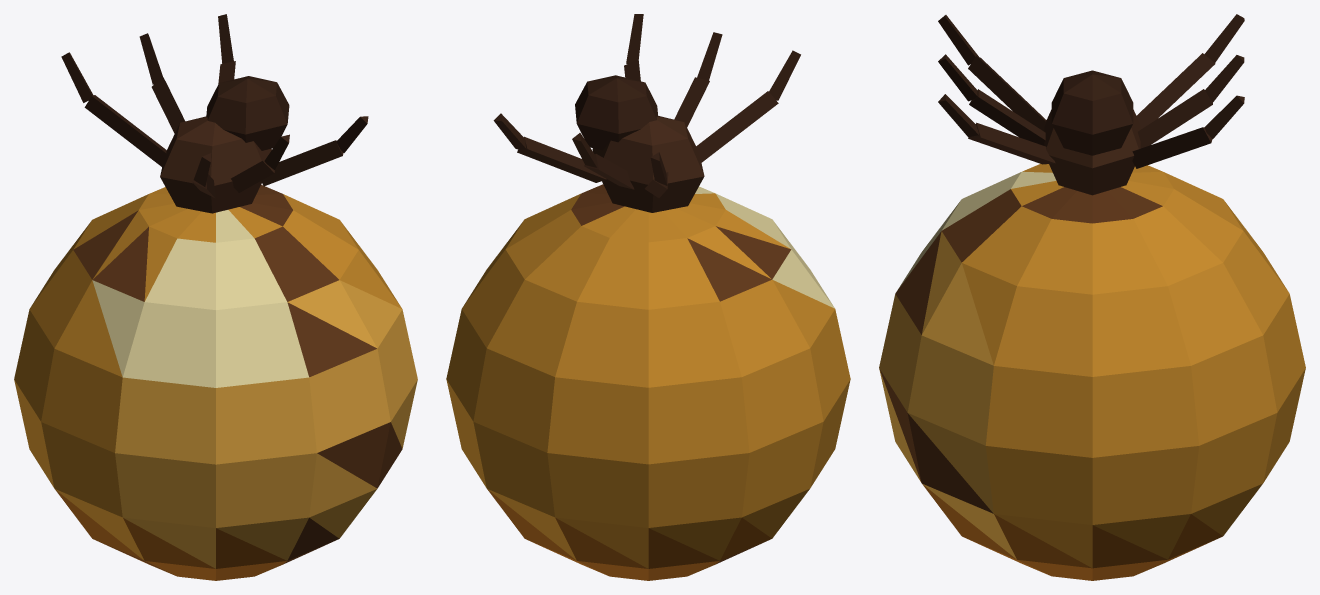
File: nest-replete.glb
The picture shows the model from 3 angles, left to right: view 1: azimuth 30°, elevation 25°; view 2: azimuth 150°, elevation 25°; view 3: azimuth 270°, elevation 25°; orthographic projection. The views are drawn at different scales.
Size of the model in its own units: 2 by 2.62 by 2.
